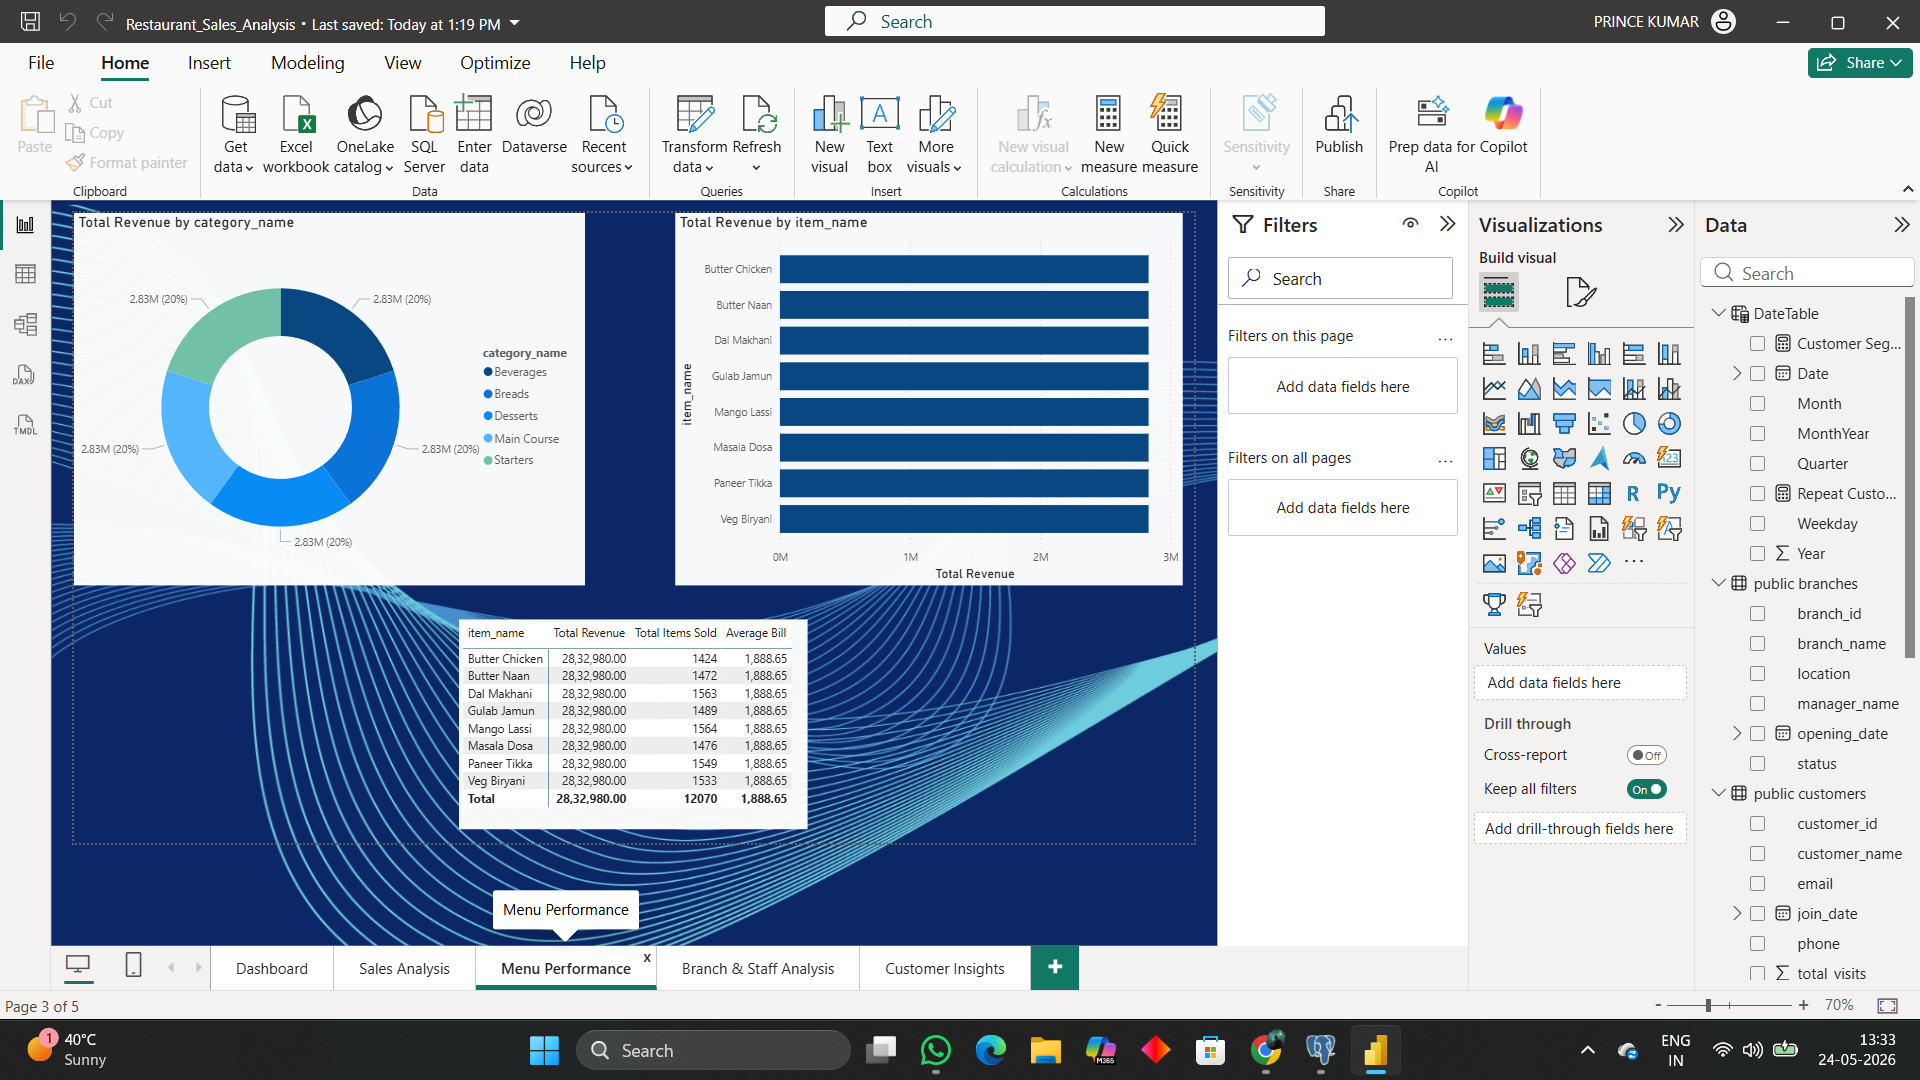

Layout of this report page (visuals, bound fields, positions):
{"tool":"powerbi","page":{"name":"Menu Performance","canvas":[1280,720],"ordinal":2},"visuals":[{"type":"donutChart","fields":{"Category":["public menu_categories.category_name"],"Y":["public sales.Total Revenue"]},"box":[0,0,584.3,425.7],"z":0},{"type":"barChart","fields":{"Category":["public menu_items.item_name"],"Y":["public sales.Total Revenue"]},"box":[687.1,0,580,425.7],"z":1000},{"type":"pivotTable","fields":{"Rows":["public menu_items.item_name"],"Values":["public sales.Total Revenue","public sales.Total Items Sold","public sales.Average Bill"]},"box":[440,464.3,398.6,240],"z":2000}]}

Visuals, with their boxes on the page's 1280x720 design canvas (x1, y1, x2, y2). These are canvas units, not pixel positions in the 1920x1080 screenshot, which may show the page scaled, cropped or inside an application window:
donutChart - public menu_categories.category_name x public sales.Total Revenue: {"left": 0, "top": 0, "right": 584, "bottom": 426}
barChart - public menu_items.item_name x public sales.Total Revenue: {"left": 687, "top": 0, "right": 1267, "bottom": 426}
pivotTable - public menu_items.item_name x public sales.Total Revenue: {"left": 440, "top": 464, "right": 839, "bottom": 704}
